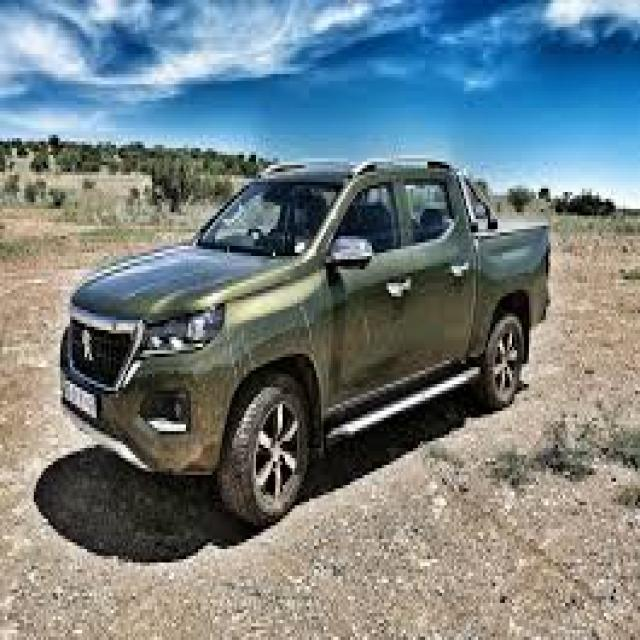Pickup Trucks: (60, 162, 553, 529)
